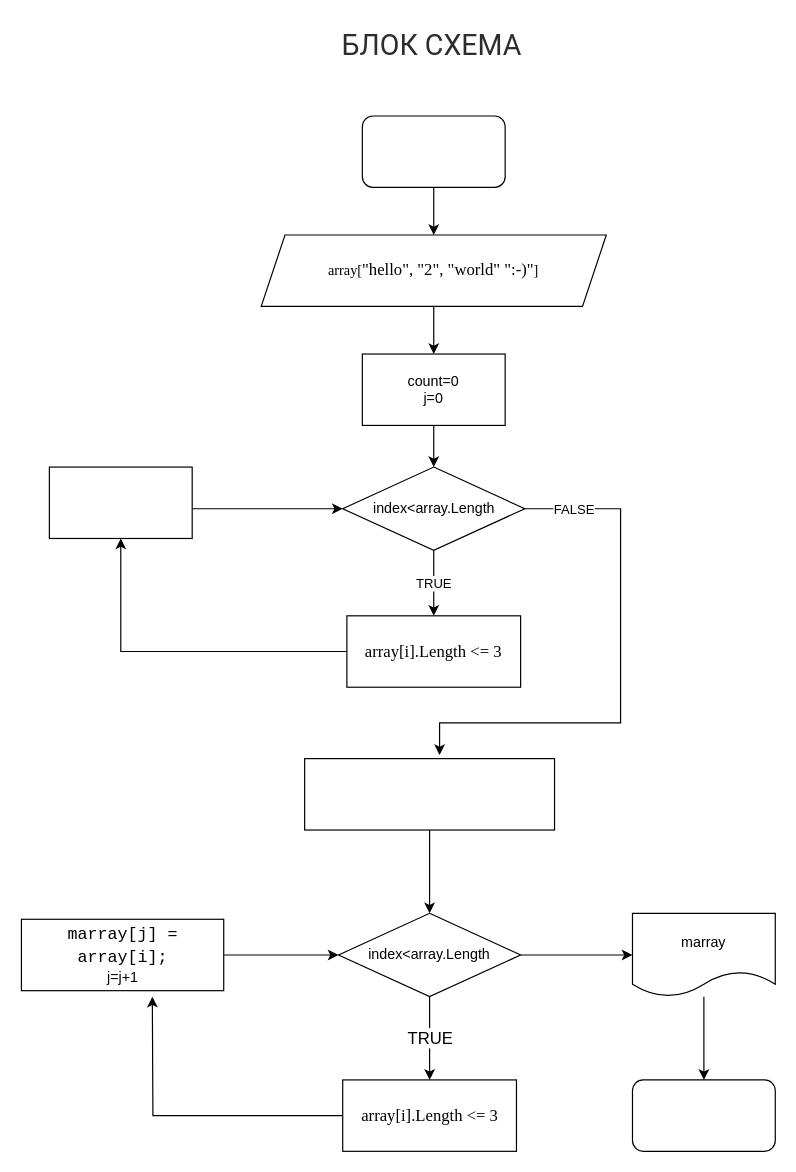
Some shapes in this 796 by 1172 pixel diagram are drawn without their labels. The centre of each missing label's shape, as x and y in pixels:
"count=count+1" belongs at [120,502].
"END" belongs at [703,1115].
"START" belongs at [433,151].
"string[] marray[count];" belongs at [429,793].
